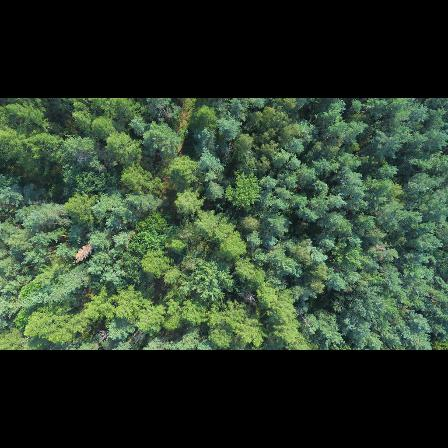Dead: (72, 242, 95, 263)
